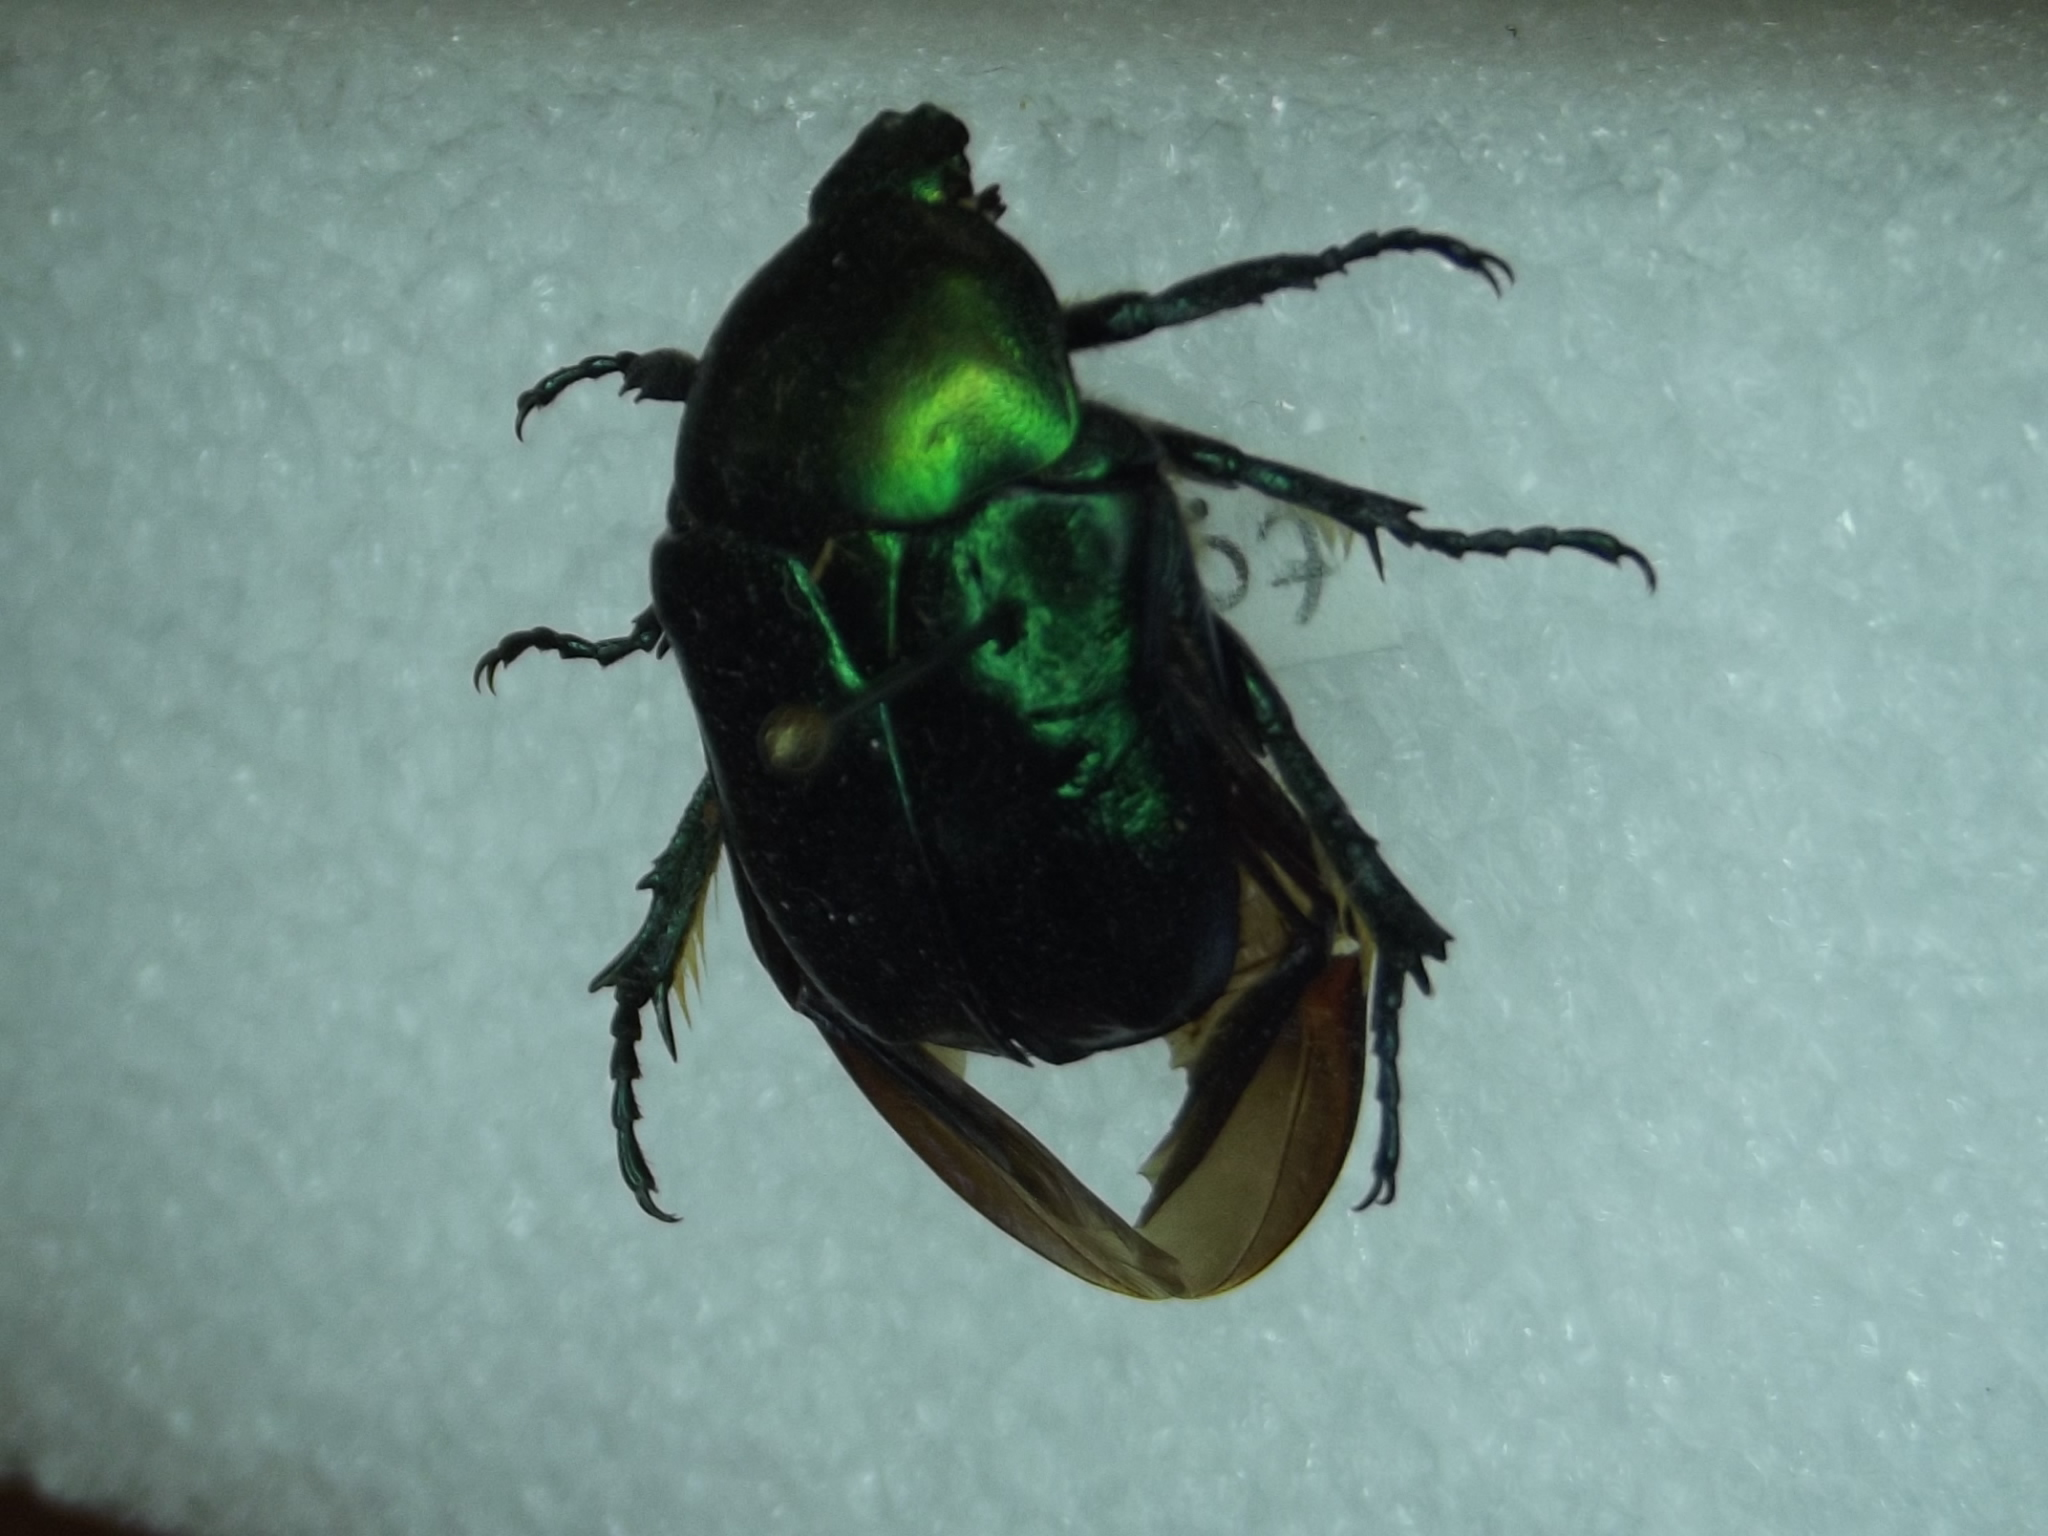Protaetia_angustata_angustata: (450, 89, 1674, 1305)
